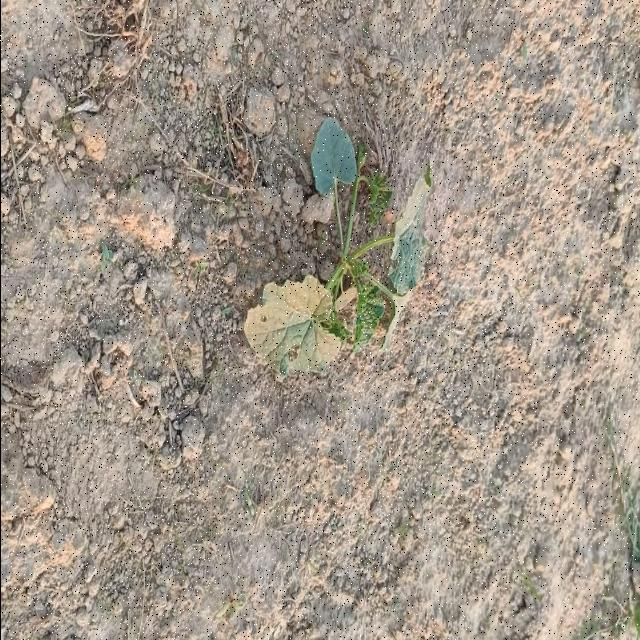plant: (243, 117, 430, 377)
